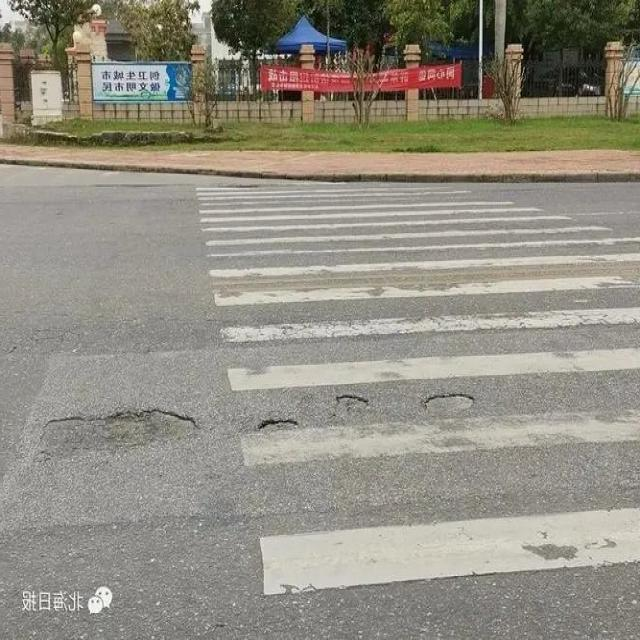pothole: (41, 407, 201, 462), (424, 390, 476, 420), (257, 416, 299, 434), (334, 390, 372, 407)
